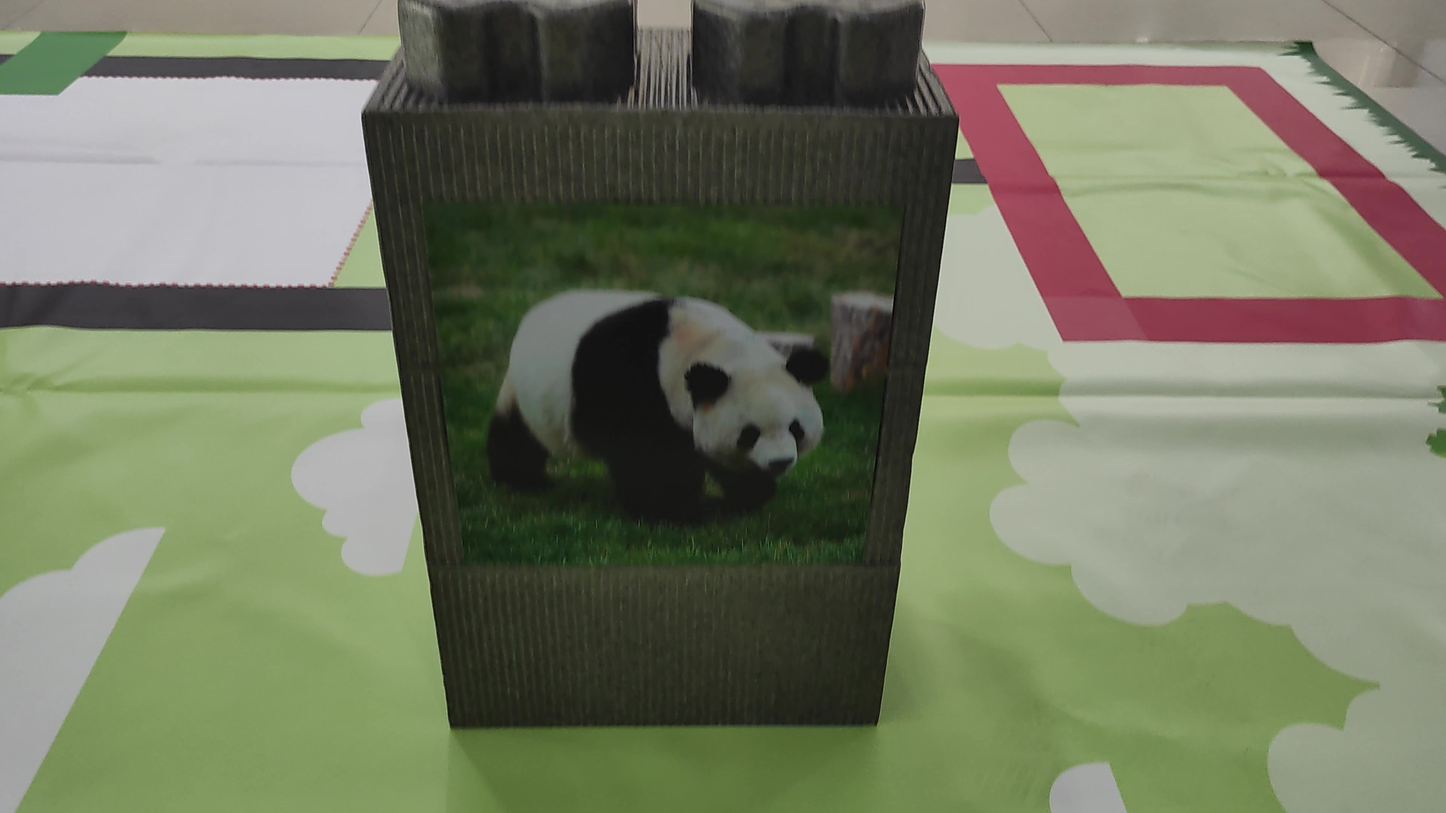panda: (443, 257, 832, 544)
